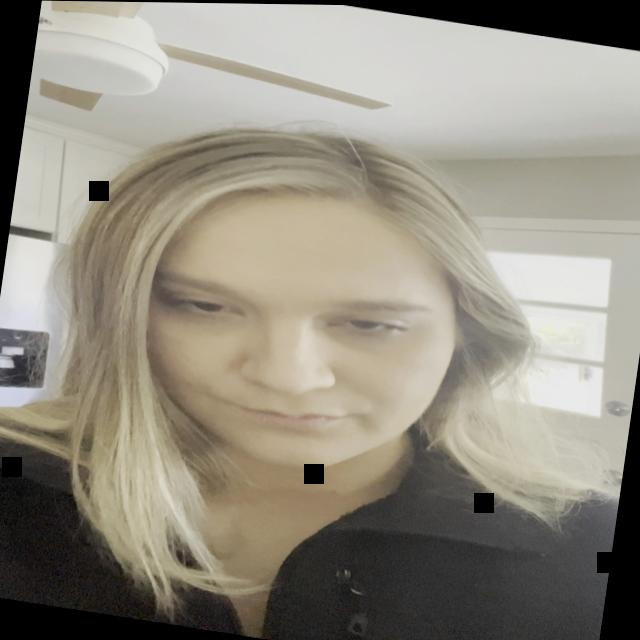NO-Mask: (86, 108, 513, 531)
